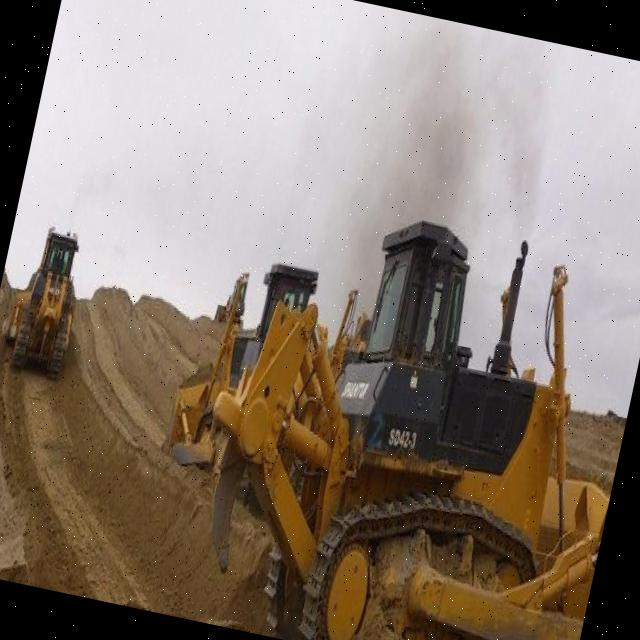Bulldozer: (162, 156, 640, 640), (0, 147, 127, 406)
